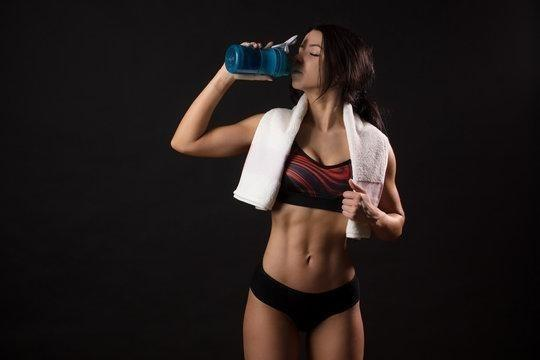gym bottle: (224, 40, 293, 79)
